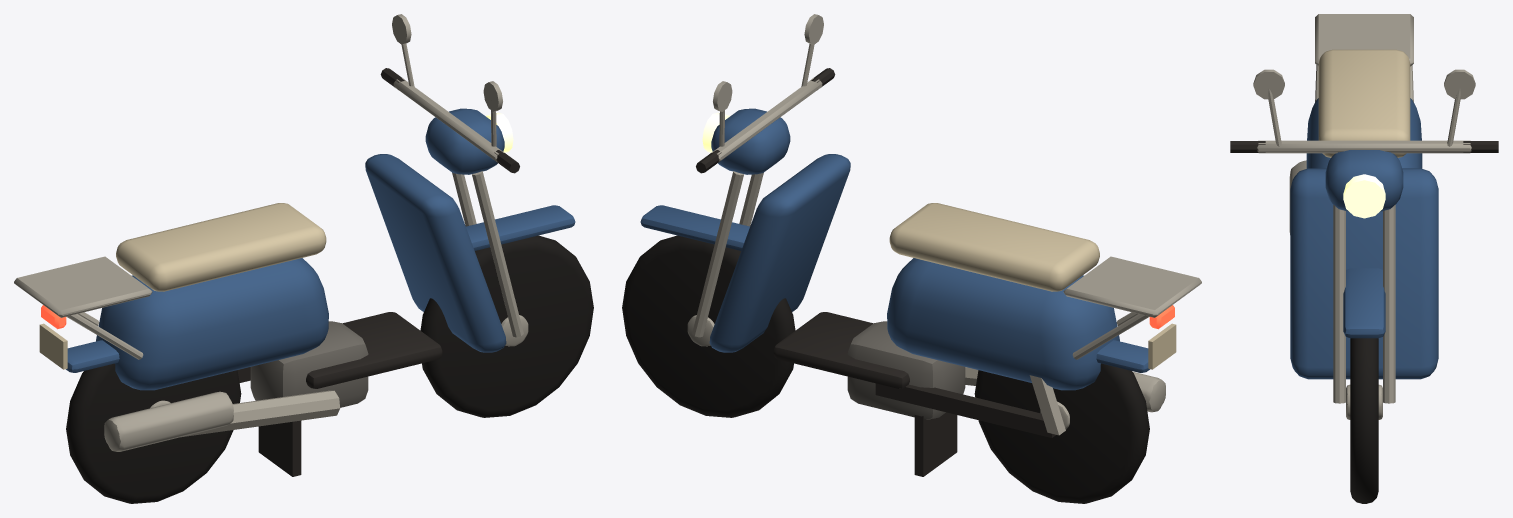
File: motorbike_cub_blue.glb
3 views of the same model, side by side, from view 1: azimuth 30°, elevation 25°; view 2: azimuth 150°, elevation 25°; view 3: azimuth 270°, elevation 25° (orthographic). The views are drawn at different scales.
Visible parts, largest first — view 1: MotoCub_Blue, MotoCub_Blue_Wheel_F, MotoCub_Blue_Wheel_R; view 2: MotoCub_Blue, MotoCub_Blue_Wheel_F, MotoCub_Blue_Wheel_R; view 3: MotoCub_Blue, MotoCub_Blue_Wheel_F.
Boxes of the visible parts, left/top/right/bottom form: MotoCub_Blue: left=14, top=14, right=575, bottom=476; MotoCub_Blue_Wheel_F: left=420, top=235, right=593, bottom=417; MotoCub_Blue_Wheel_R: left=66, top=363, right=241, bottom=503; MotoCub_Blue: left=640, top=14, right=1201, bottom=476; MotoCub_Blue_Wheel_F: left=622, top=235, right=795, bottom=417; MotoCub_Blue_Wheel_R: left=974, top=363, right=1149, bottom=503; MotoCub_Blue: left=1230, top=14, right=1498, bottom=403; MotoCub_Blue_Wheel_F: left=1346, top=338, right=1382, bottom=503.
Size of the model in its own units: 1.89 by 1.23 by 0.76.
